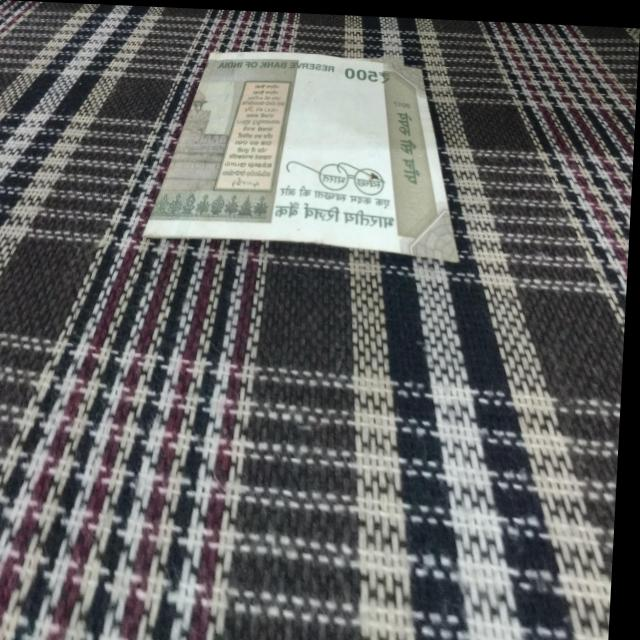Currency: (188, 35, 477, 271)
